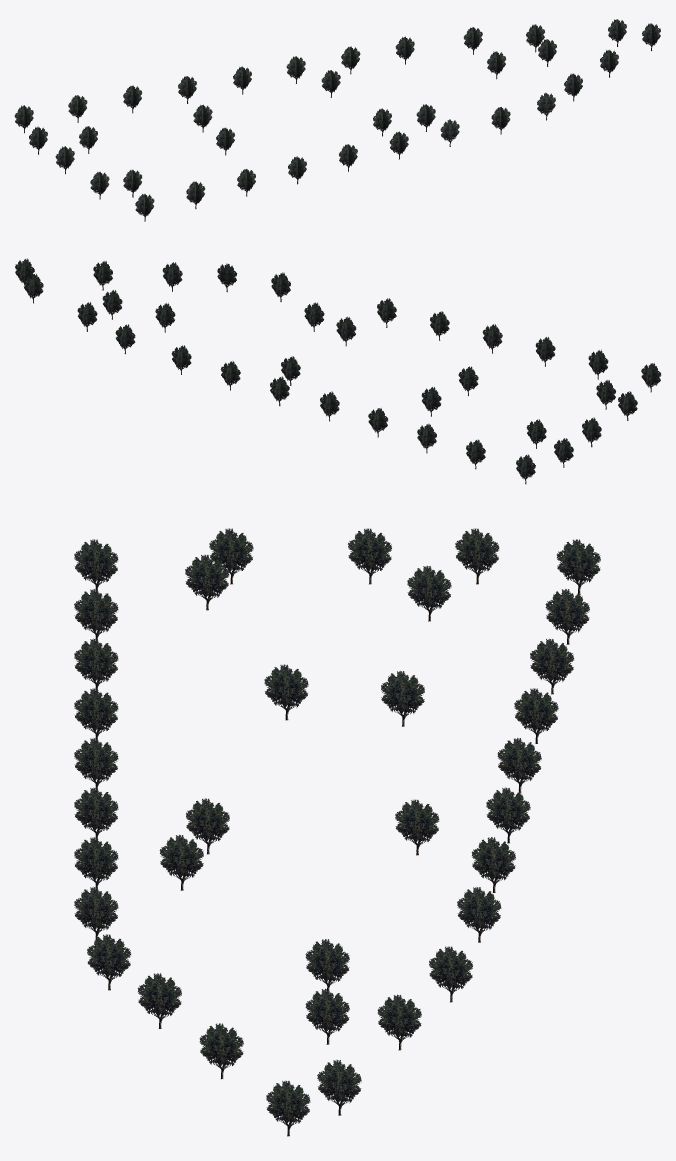
Rendered from plangTree13.FBX.
The picture shows the model from 3 angles, top to bottom: view 1: azimuth 30°, elevation 25°; view 2: azimuth 150°, elevation 25°; view 3: azimuth 270°, elevation 25°; orthographic projection. The views are drawn at different scales.
Parts seen in each view (by area): view 1: planeTree13; view 2: planeTree13; view 3: planeTree13.
Part boxes in pixels (x1,y1,x2,y2): planeTree13: (14,19,660,221); planeTree13: (15,258,661,484); planeTree13: (74,528,600,1136).
Size of the model in its own units: 6013 by 279 by 2355.
1 material, 1 textured.
